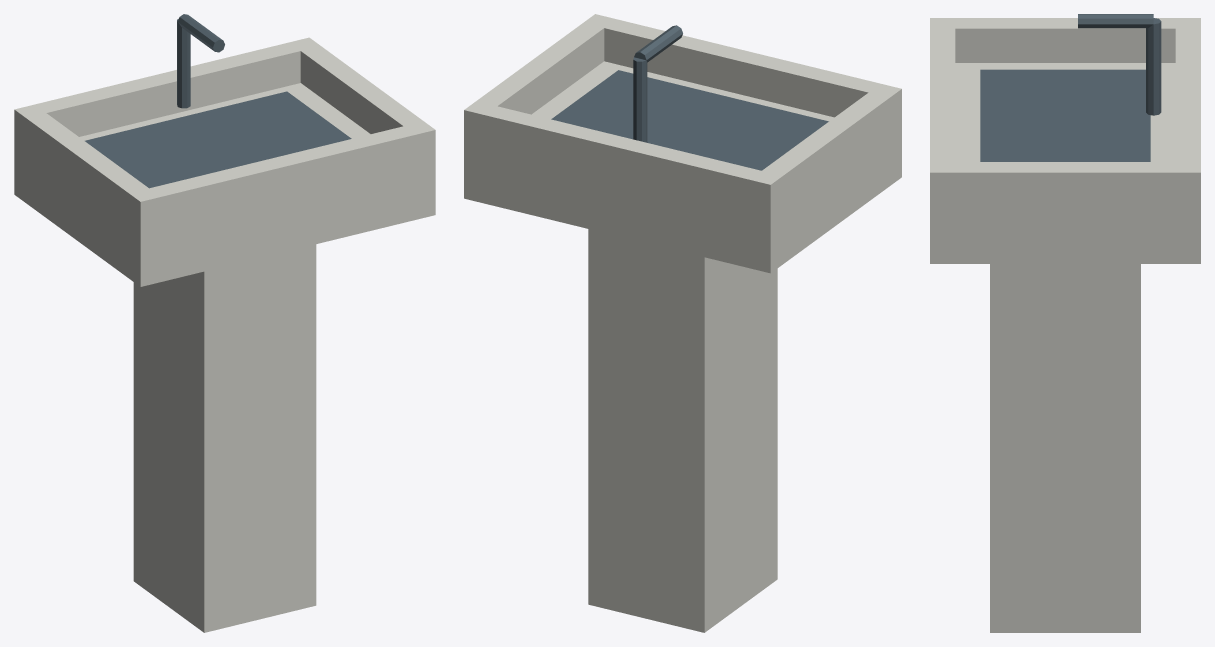
The model's file is football-soccer-club-grounds-wash-basin-3be77db0.glb.
3 views of the same model, side by side, from view 1: azimuth 30°, elevation 25°; view 2: azimuth 150°, elevation 25°; view 3: azimuth 270°, elevation 25° (orthographic). The views are drawn at different scales.
Visible parts, largest first — view 1: wash-basin; view 2: wash-basin; view 3: wash-basin.
Part boxes in pixels (box(x1,y1,x2,y2)): wash-basin: box(14, 14, 435, 632); wash-basin: box(464, 14, 901, 632); wash-basin: box(930, 14, 1200, 632).
Bounding box in the file's own units: 0.58 × 1.03 × 0.4299.
